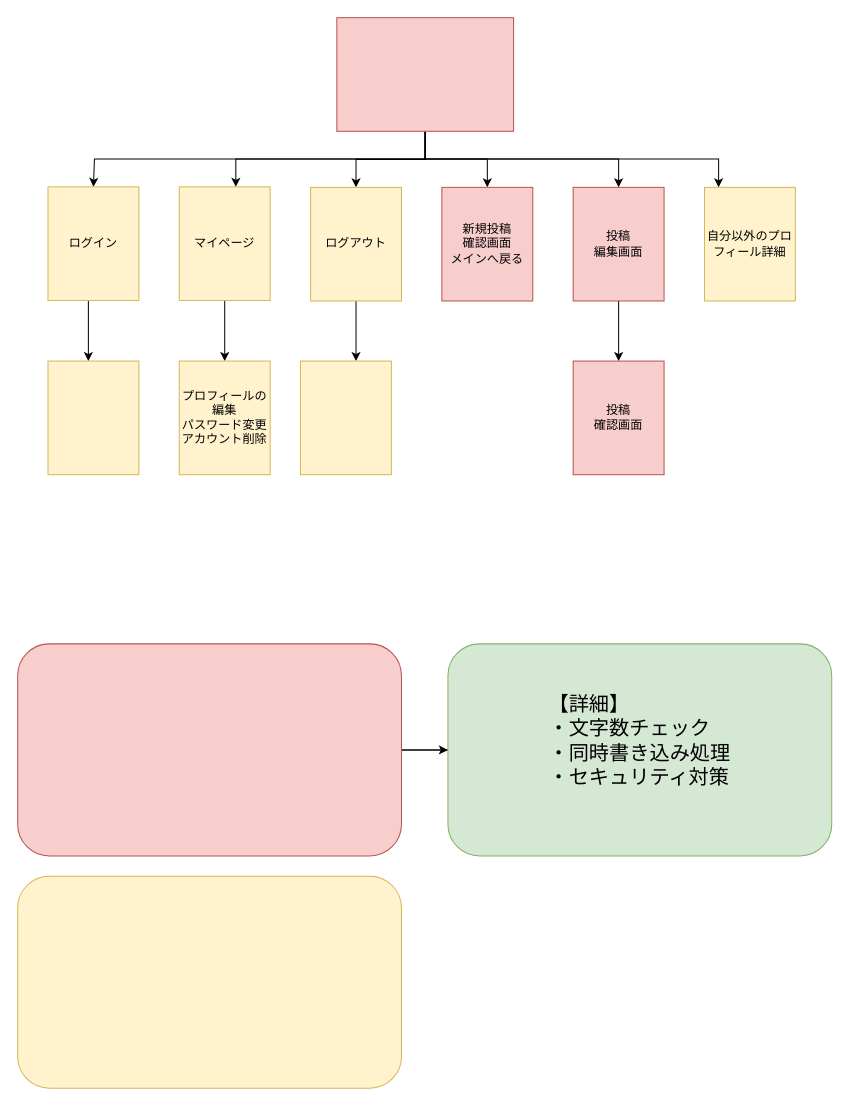
The diagram is 849 pixels wide and 1106 high, and some of its shapes have lost their labels. The shapes that lost their labels are listed below. From the top down, each one's centre as x and y in pixels, then its label:
point (425, 74): 【サイドバー】 ログインorマイページ ログアウト 【メイン画面】 新規投稿 投稿一覧
point (93, 417): ログイン できません 再入力 or メインに戻る
point (345, 417): ログアウト しました メインに戻る
point (209, 749): 【必要な機能】 ・名前入力 ・コメント入力 ・掲示板表示
point (209, 981): 【追加したい機能】 ・ユーザー登録
